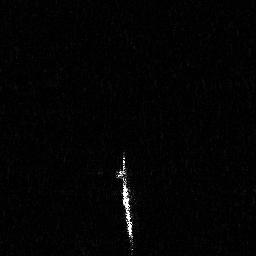ship: (114, 150, 138, 255)
